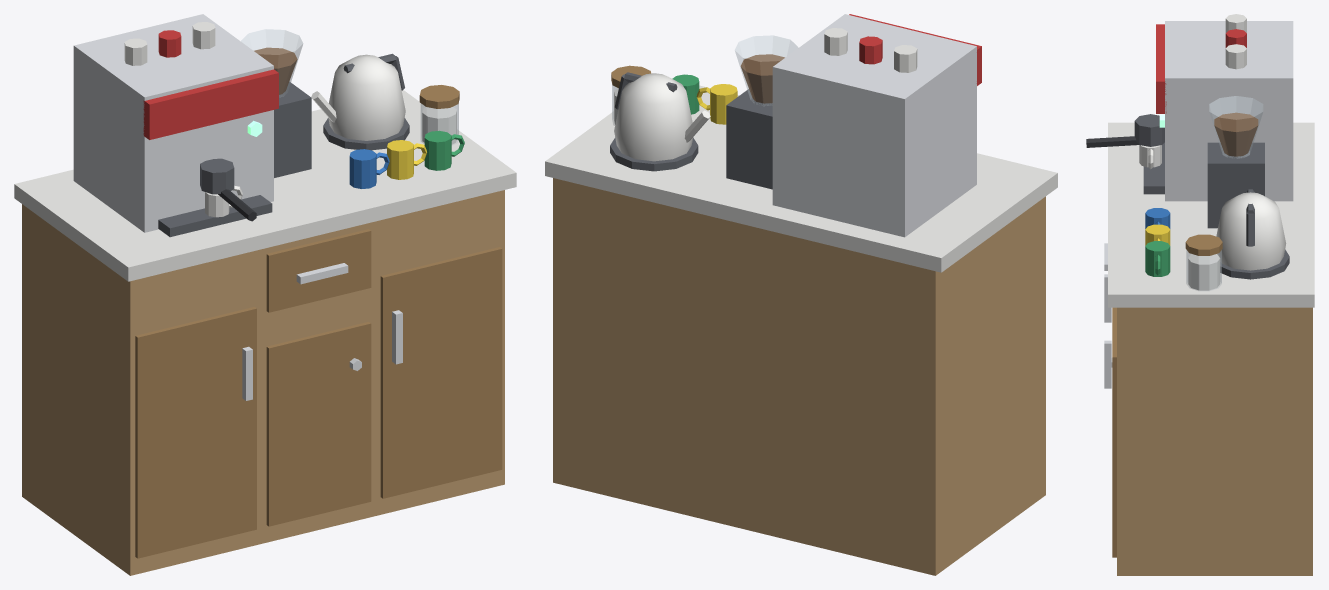
The model's file is coffee_station.glb.
3 views of the same model, side by side, from view 1: azimuth 30°, elevation 25°; view 2: azimuth 150°, elevation 25°; view 3: azimuth 270°, elevation 25° (orthographic). The views are drawn at different scales.
Visible parts, largest first — view 1: coffee_station; view 2: coffee_station; view 3: coffee_station.
Part boxes in pixels (x1=…): coffee_station: x1=14, y1=14, x2=516, y2=575; coffee_station: x1=545, y1=14, x2=1057, y2=575; coffee_station: x1=1086, y1=14, x2=1314, y2=575.
Size of the model in its own units: 1.14 by 1.31 by 0.6409.
